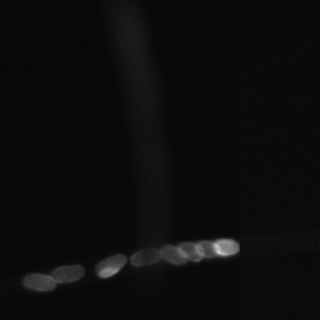embryo: (95, 254, 127, 278), (50, 264, 85, 284), (22, 273, 56, 291), (130, 248, 160, 267), (159, 245, 186, 265), (178, 242, 204, 262), (194, 240, 221, 259), (213, 239, 239, 256)
